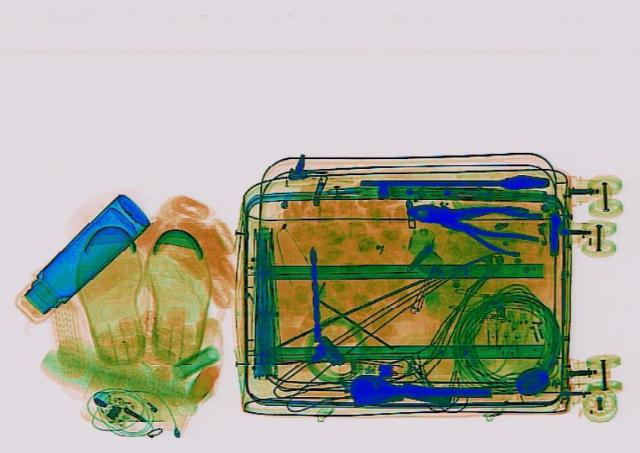Pliers: (402, 196, 544, 241)
